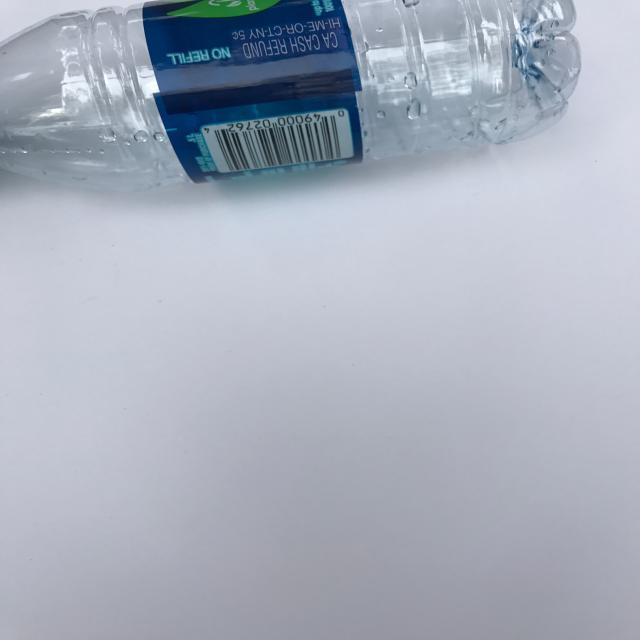plastic: (2, 2, 590, 200)
